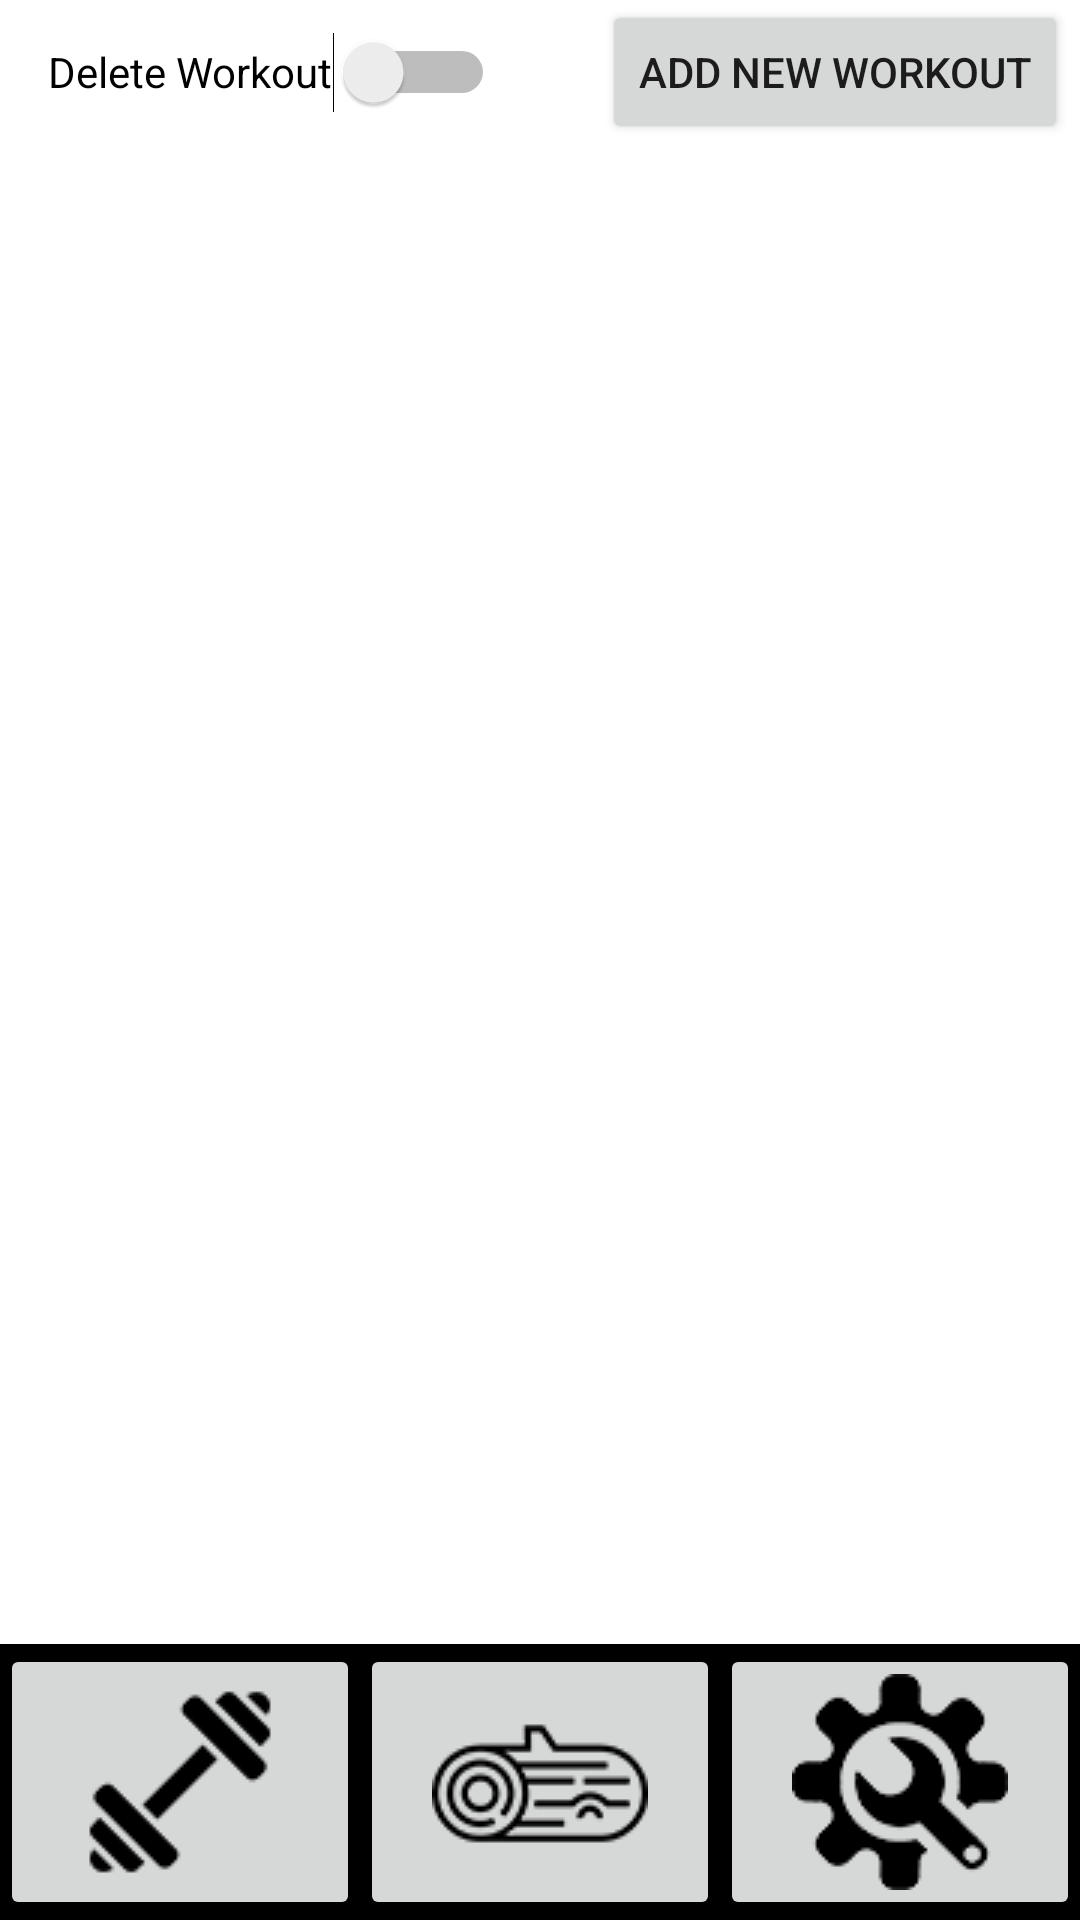

Icon click points for this 1080x1920 phone screenshot, format (x,y):
settings: (900,1782)
weight: (180,1782)
woodlog: (540,1782)
